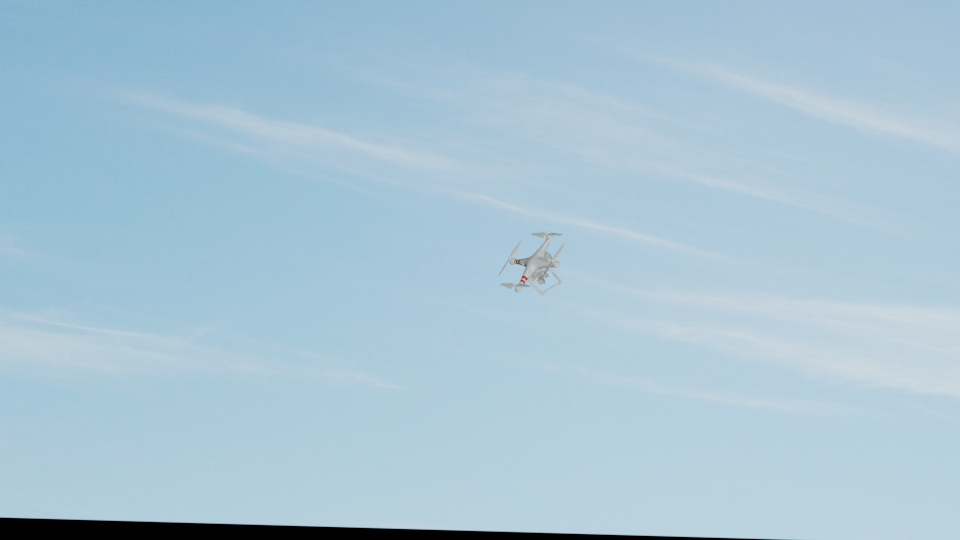drone: (494, 227, 569, 294)
